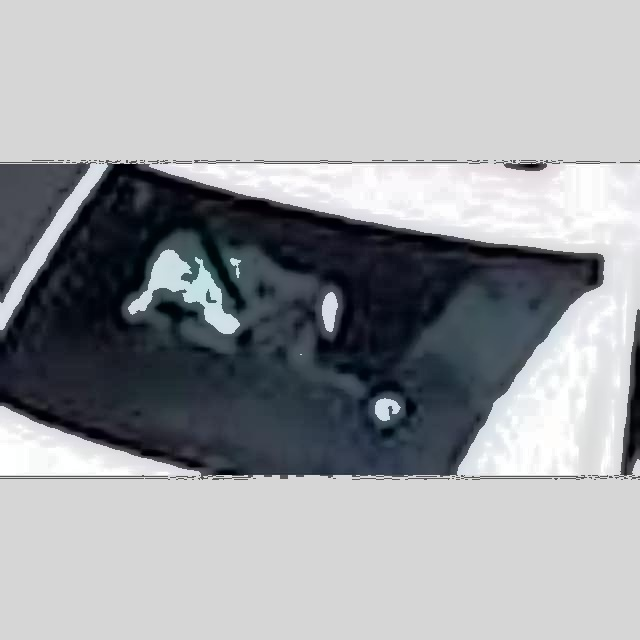pakai: (112, 217, 329, 364)
